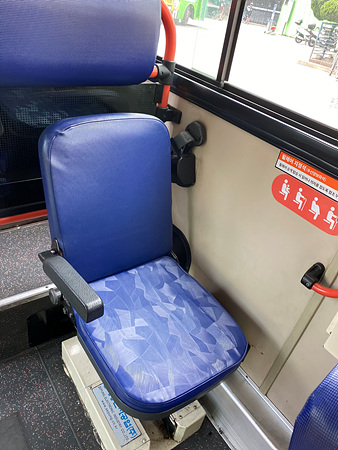seat: (37, 110, 249, 415)
